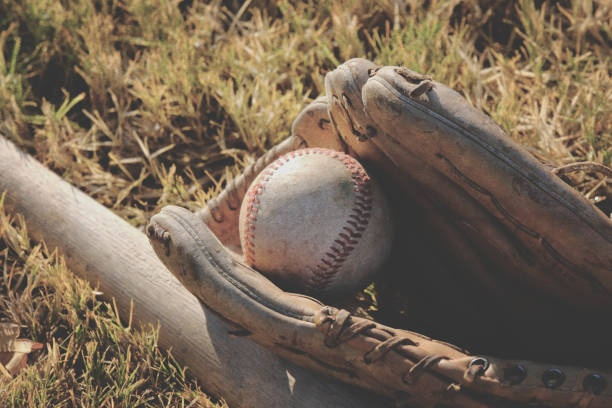bita: (1, 132, 373, 408)
